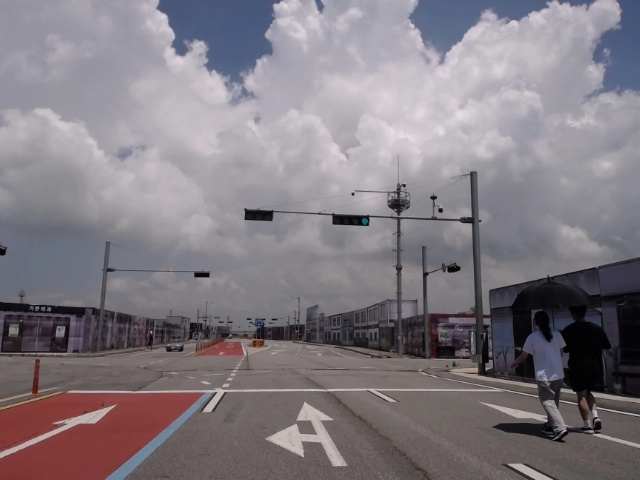straight_green_4: (333, 214, 370, 227)
